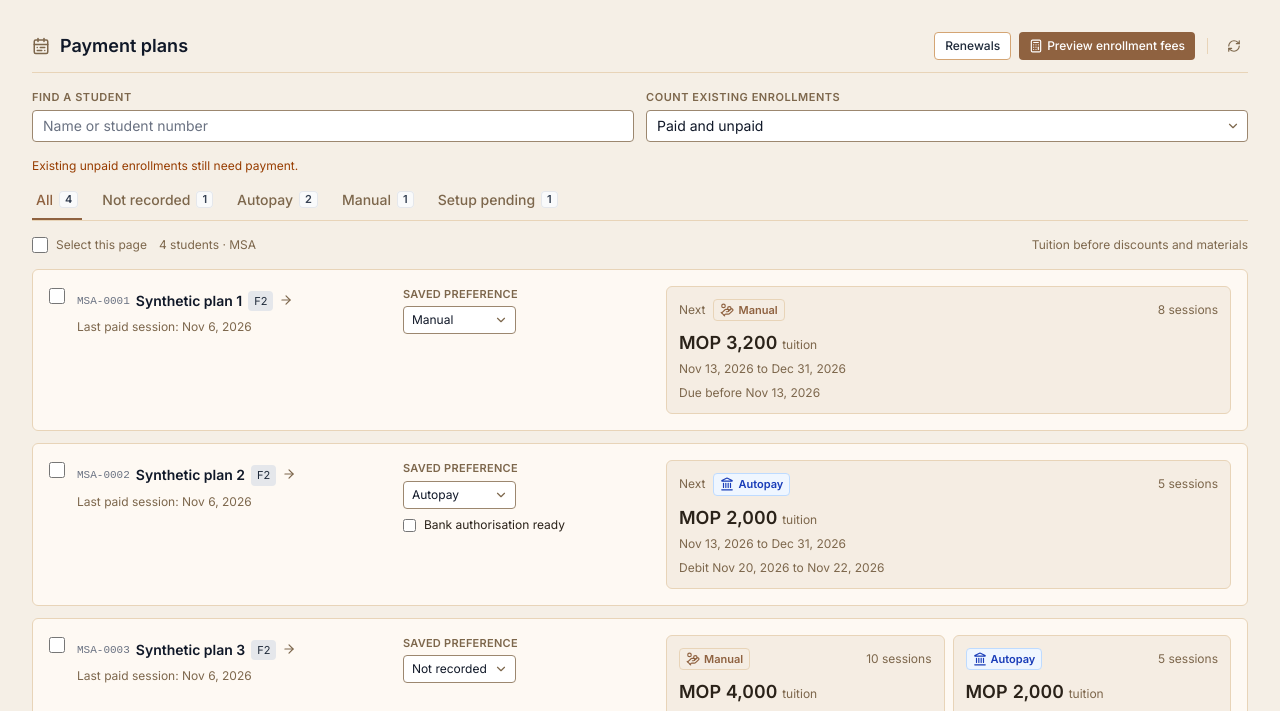
Test: payment plans on the existing student roster › filters preference collection over the roster without adding a collection-month restriction
Expected: the text "Synthetic plan 1" is shown, left=136, top=291, right=242, bottom=311
Click the tab "Not recorded 1" at x=158, y=204, box left=98, top=190, right=217, bottom=220
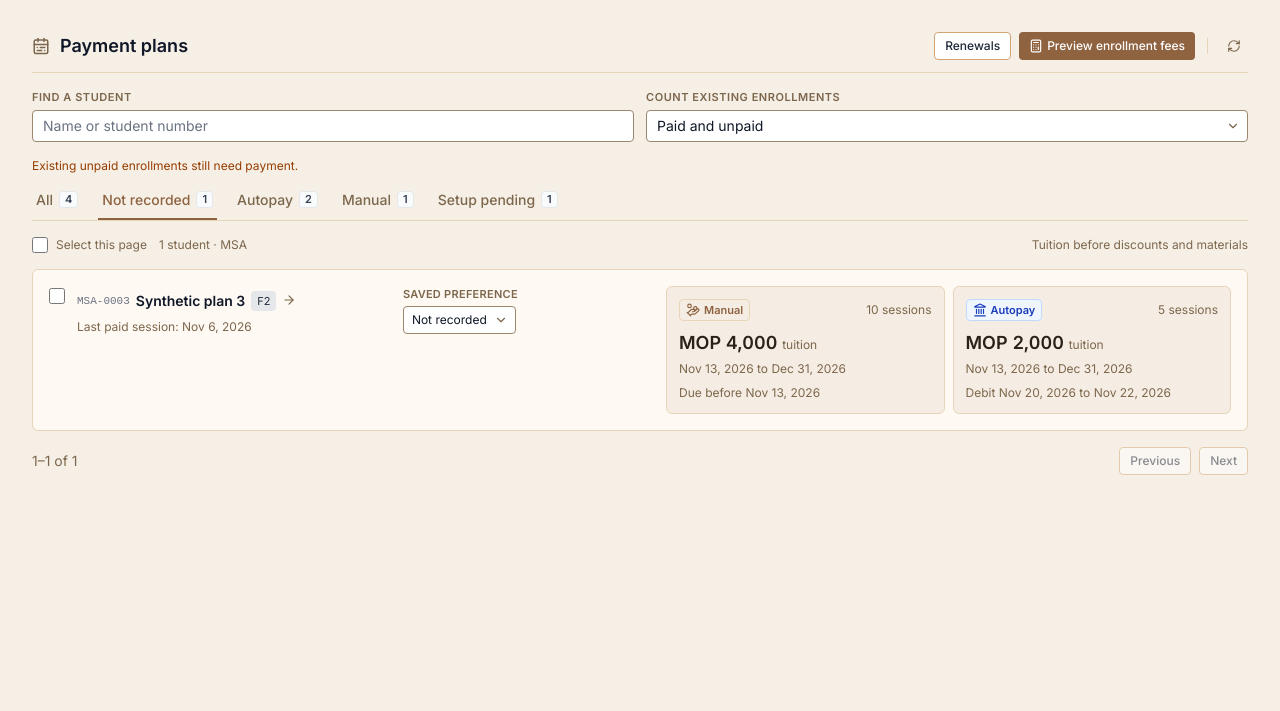
Expected: the text "Synthetic plan 3" is shown, left=136, top=291, right=245, bottom=311
Expected: the link "Synthetic plan 1" is gone
